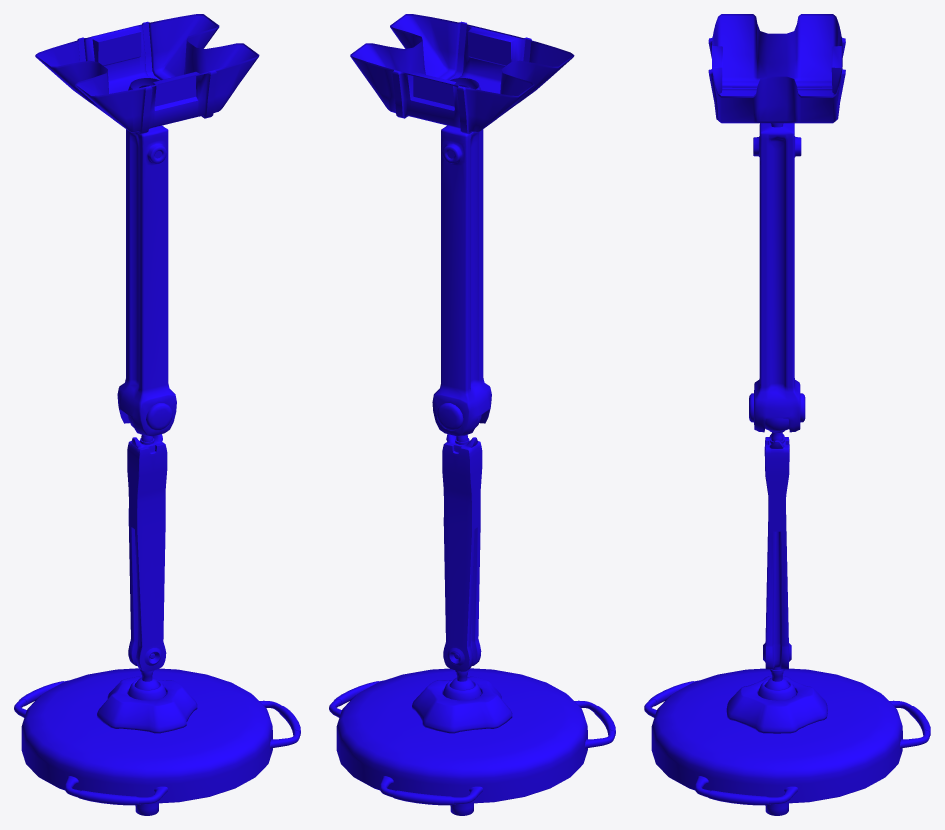
Rendered from Lamp NEW _ for bake _ LOW_C_Assembled.FBX.
3 renders of one model, left to right at view 1: azimuth 30°, elevation 25°; view 2: azimuth 150°, elevation 25°; view 3: azimuth 270°, elevation 25°, orthographic.
Parts seen in each view (by area): view 1: Cylinder004, Box004, Box003, Box005, Box001, Handles003, Handles004; view 2: Cylinder004, Box004, Box003, Box005, Box001, Handles002, Handles003; view 3: Cylinder004, Box004, Box003, Box005, Box001, Handles004, Handles002.
Part boxes in pixels (box(x1,y1,x2,y2)): Cylinder004: box(21, 668, 272, 815); Box004: box(35, 14, 259, 134); Box003: box(117, 125, 176, 436); Box005: box(127, 434, 167, 671); Box001: box(97, 676, 197, 733); Handles003: box(65, 776, 167, 805); Handles004: box(259, 700, 300, 748); Cylinder004: box(336, 668, 587, 815); Box004: box(350, 14, 574, 134); Box003: box(432, 125, 491, 436); Box005: box(442, 434, 482, 671); Box001: box(412, 676, 512, 733); Handles002: box(380, 776, 482, 805); Handles003: box(574, 700, 615, 748); Cylinder004: box(651, 668, 902, 815); Box004: box(708, 14, 845, 123); Box003: box(749, 123, 805, 432); Box005: box(763, 433, 791, 669); Box001: box(726, 676, 827, 733); Handles004: box(695, 776, 797, 805); Handles002: box(889, 700, 930, 748).
Bounding box in the file's own units: 706 × 2054 × 706.
